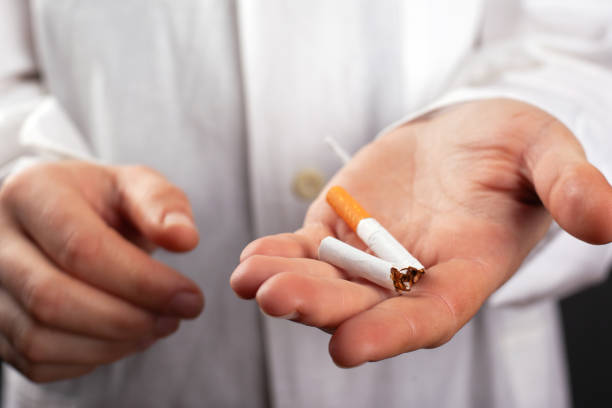cigarette: (325, 184, 424, 283), (316, 235, 411, 294)
